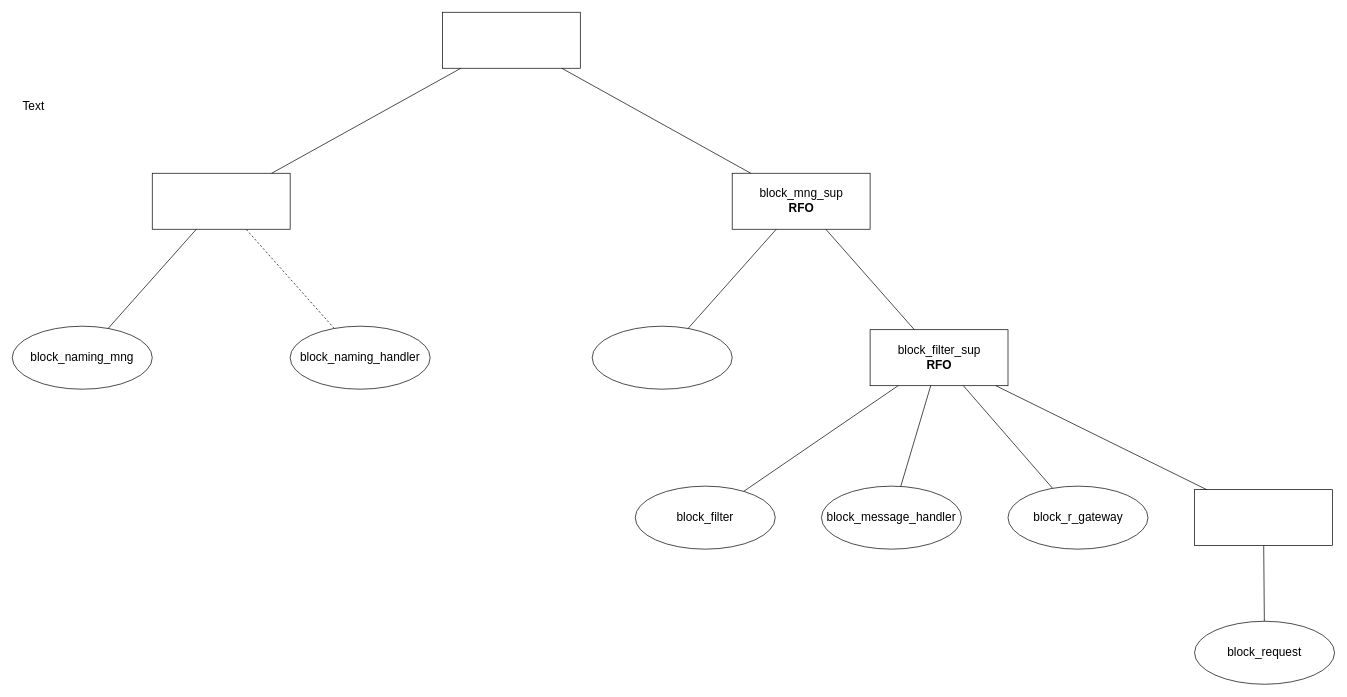
The diagram is 1347 pixels wide and 697 high, and some of its shapes have lost their labels. The centre of each missing label's shape, as x and y in pixels:
"block_naming_sup OFO" goes at pixel 221 201.
"block_r_sup SOFO" goes at pixel 1263 517.
"block_resource_handler" goes at pixel 662 357.
"block_root_sup RFO" goes at pixel 511 40.
